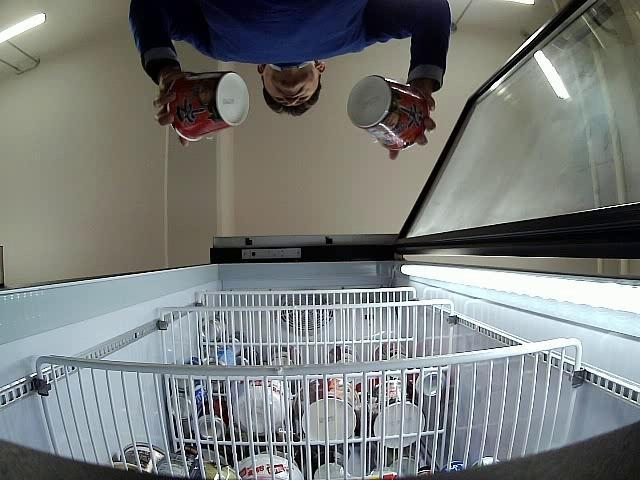01_ShinRamen_L: (348, 74, 429, 150), (166, 74, 250, 140)
